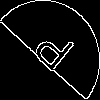P: (25, 25, 77, 81)
